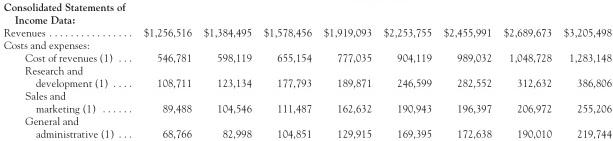column: (2, 1, 130, 141), (204, 1, 253, 141), (263, 1, 312, 141), (145, 1, 193, 141), (324, 1, 372, 141), (384, 1, 432, 141), (504, 1, 552, 141), (564, 1, 612, 141), (445, 1, 492, 141)
row: (1, 28, 613, 39), (1, 40, 613, 51), (1, 79, 613, 90), (1, 2, 613, 12), (1, 53, 613, 63), (1, 117, 613, 127), (1, 16, 613, 25), (1, 92, 613, 101), (1, 105, 613, 114), (1, 67, 613, 75), (1, 130, 613, 138)
